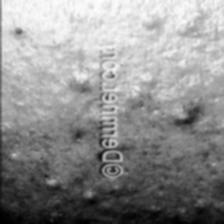Non-Cancerous Skin Condition: (0, 0, 95, 224), (132, 1, 224, 224)
